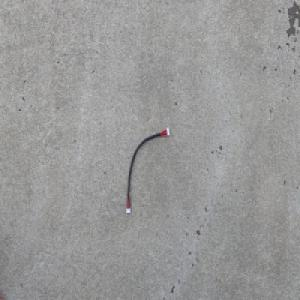Wire: (125, 125, 171, 214)
